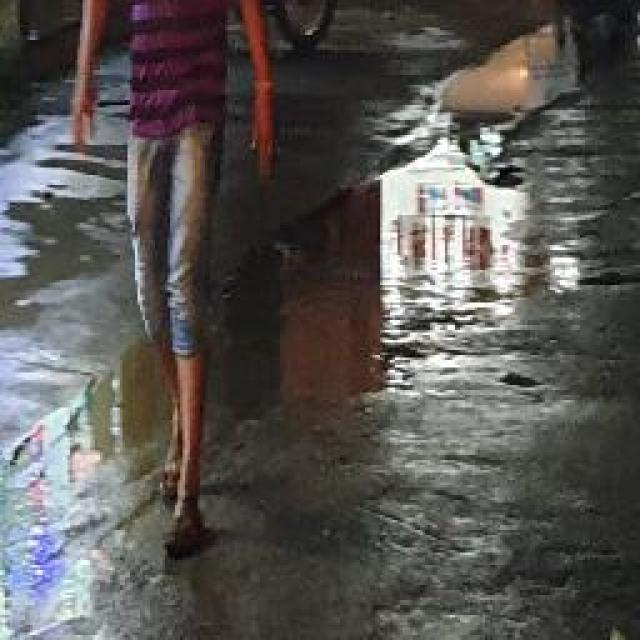waterlogging: (248, 132, 568, 375)
